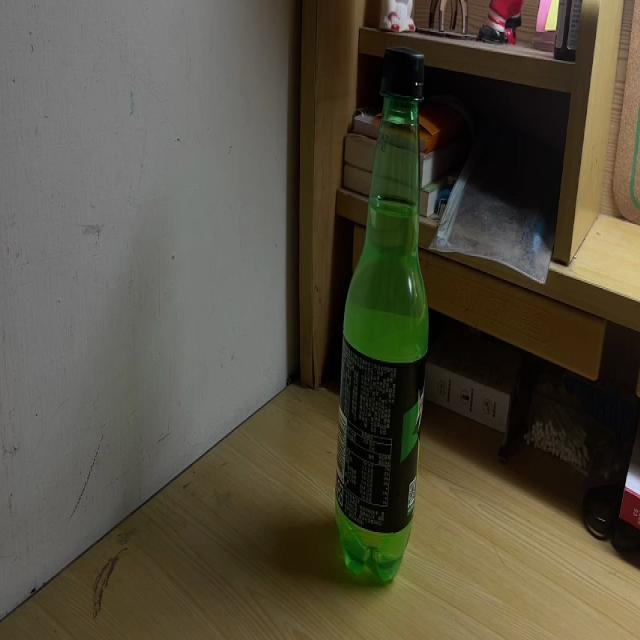Mountain-Dew: (335, 49, 429, 589)
